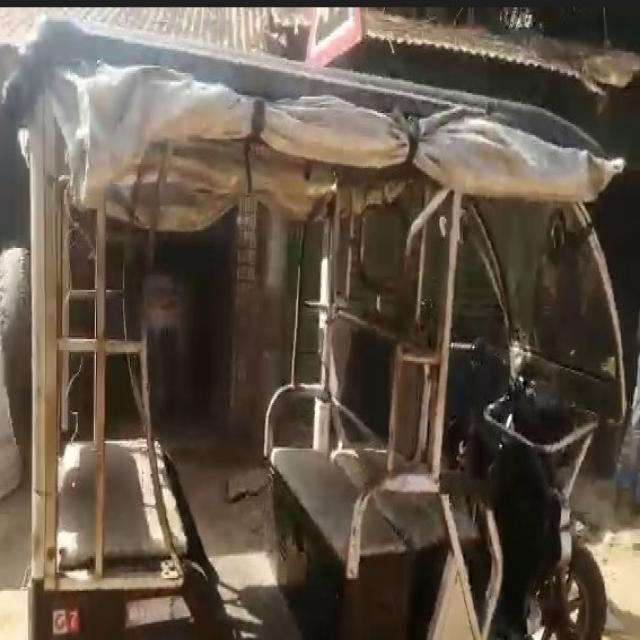toto: (18, 14, 630, 640)
